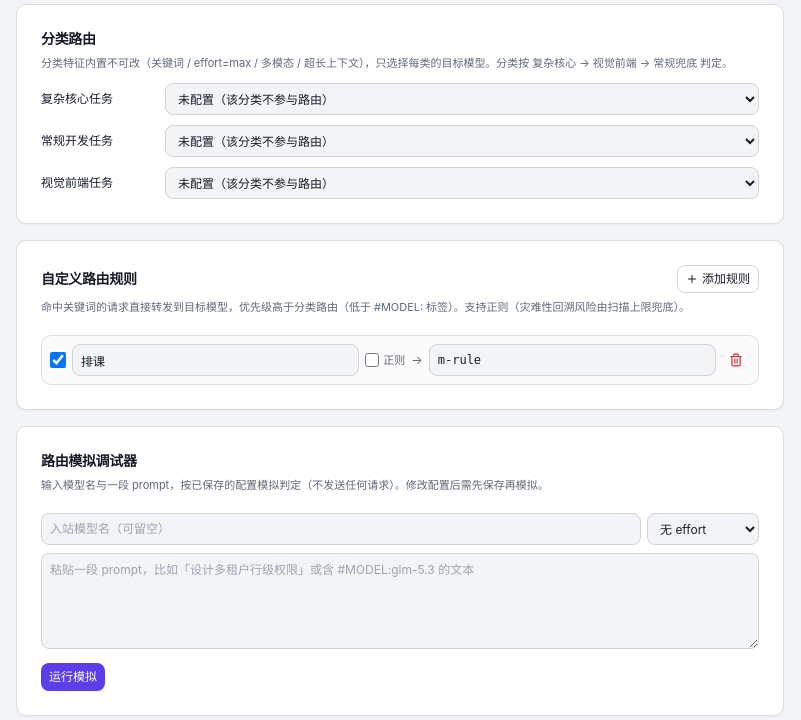
Test case: SmartRoutePage › deletes a rule row on its delete button
(page scrolled)
Expected: the element with test id "rule-row-r1" is shown, [41,335,759,385]
Click the button with test id "rule-delete-r1" at x=736, y=360, box [722,346,750,374]
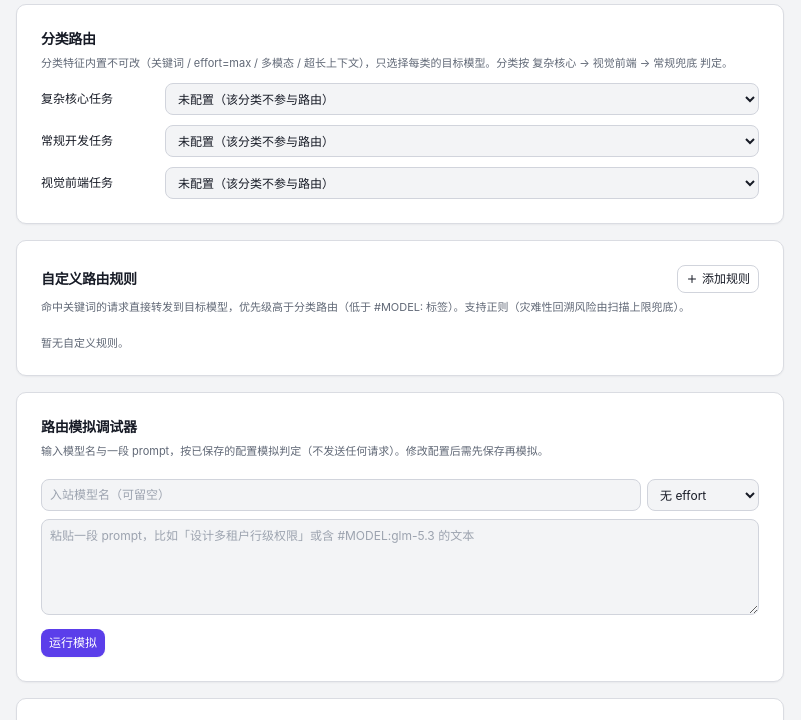
Expected: the element with test id "rule-row-r1" is gone
